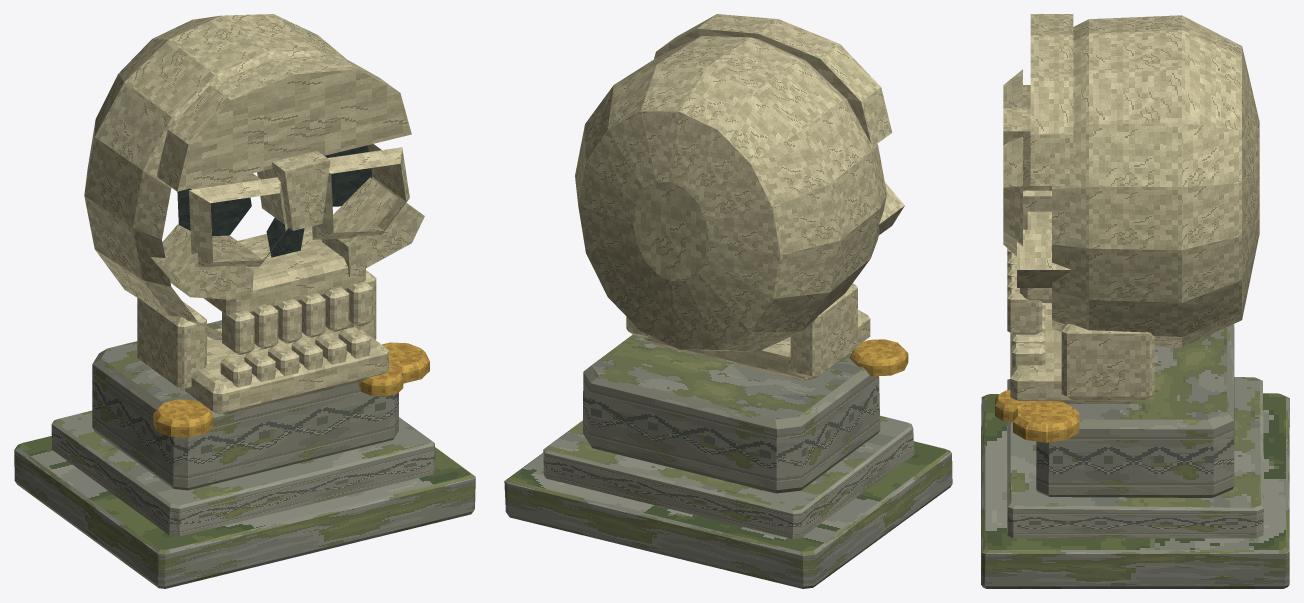
Rendered from shrine_greed.glb.
The picture shows the model from 3 angles, left to right: view 1: azimuth 30°, elevation 25°; view 2: azimuth 150°, elevation 25°; view 3: azimuth 270°, elevation 25°; orthographic projection. The views are drawn at different scales.
Visible parts, largest first — view 1: shrine_greed; view 2: shrine_greed; view 3: shrine_greed.
Boxes of the visible parts, box(x1,y1,x2,y2) form: shrine_greed: box(14, 14, 475, 588); shrine_greed: box(504, 14, 952, 588); shrine_greed: box(981, 14, 1289, 588).
Bounding box in the file's own units: 1.95 × 2.73 × 1.59.
2 materials, 2 textured.
